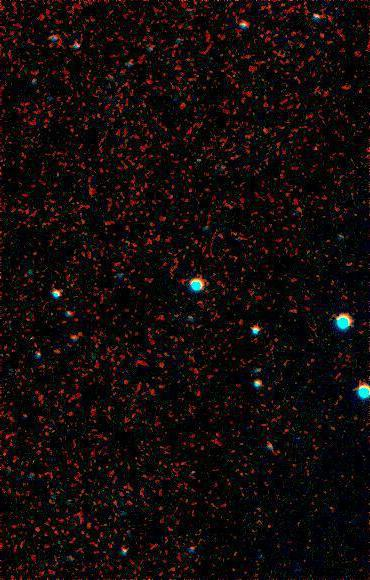star: (250, 116, 280, 146)
